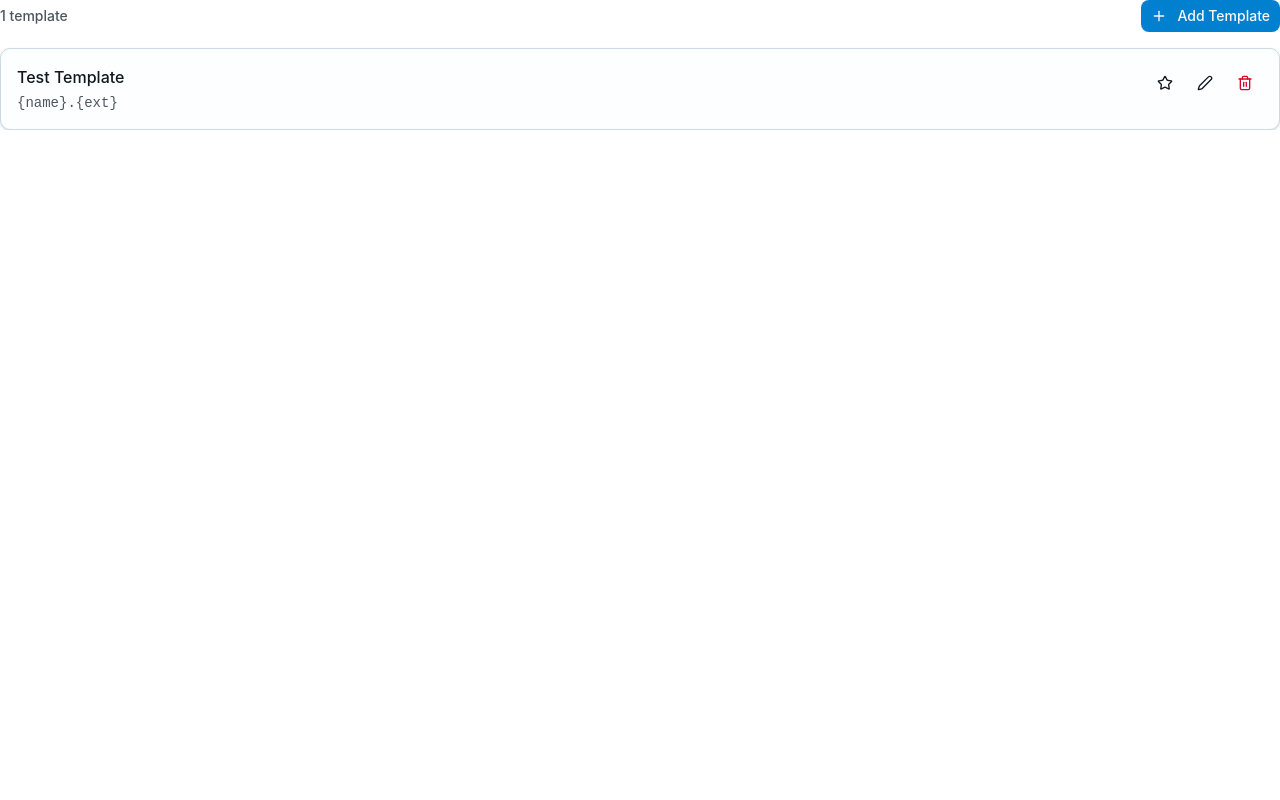
Test: TemplateList › delete confirmation › closes dialog when cancel is clicked
Click the button with test id "delete-template-test-id".
click(1245, 83)  # box [1227,65,1263,101]
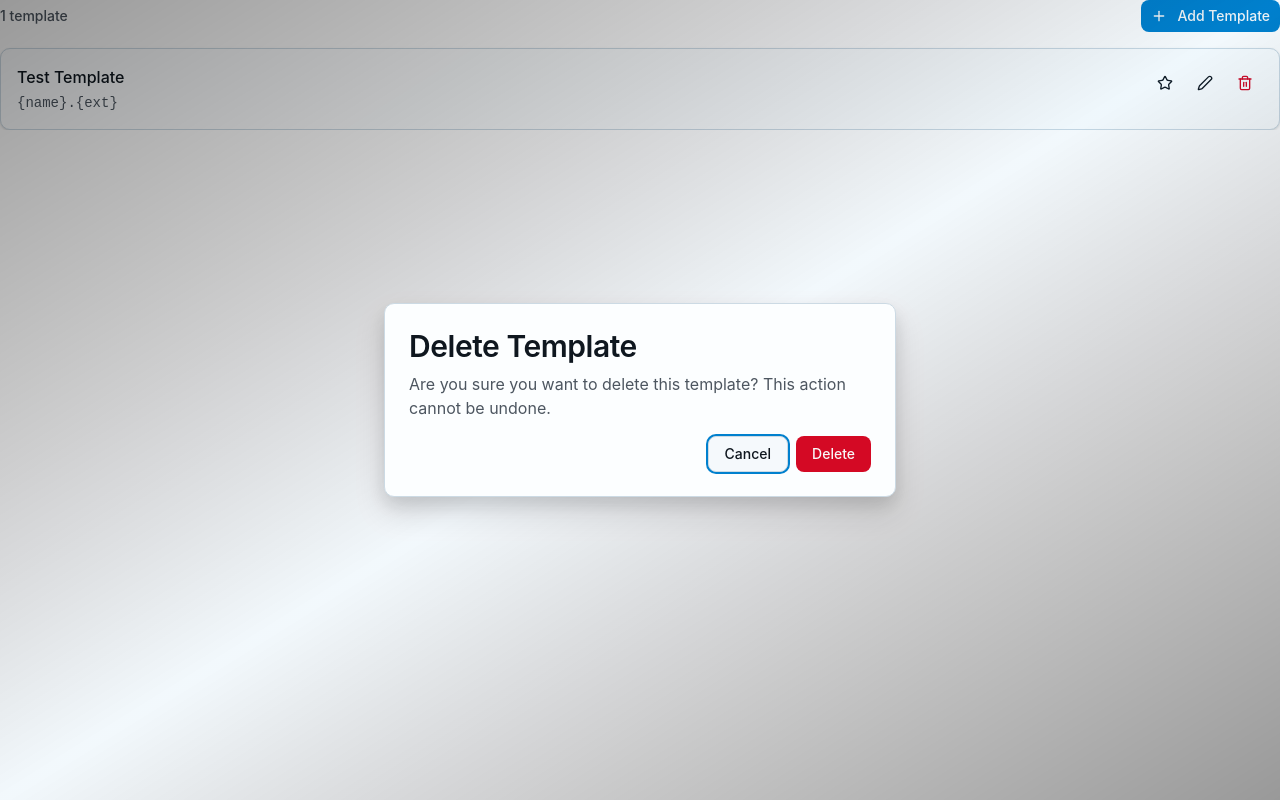
expect the button with test id "cancel-delete" is shown: met
Click the button with test id "cancel-delete".
click(748, 454)  # box [708,436,788,472]
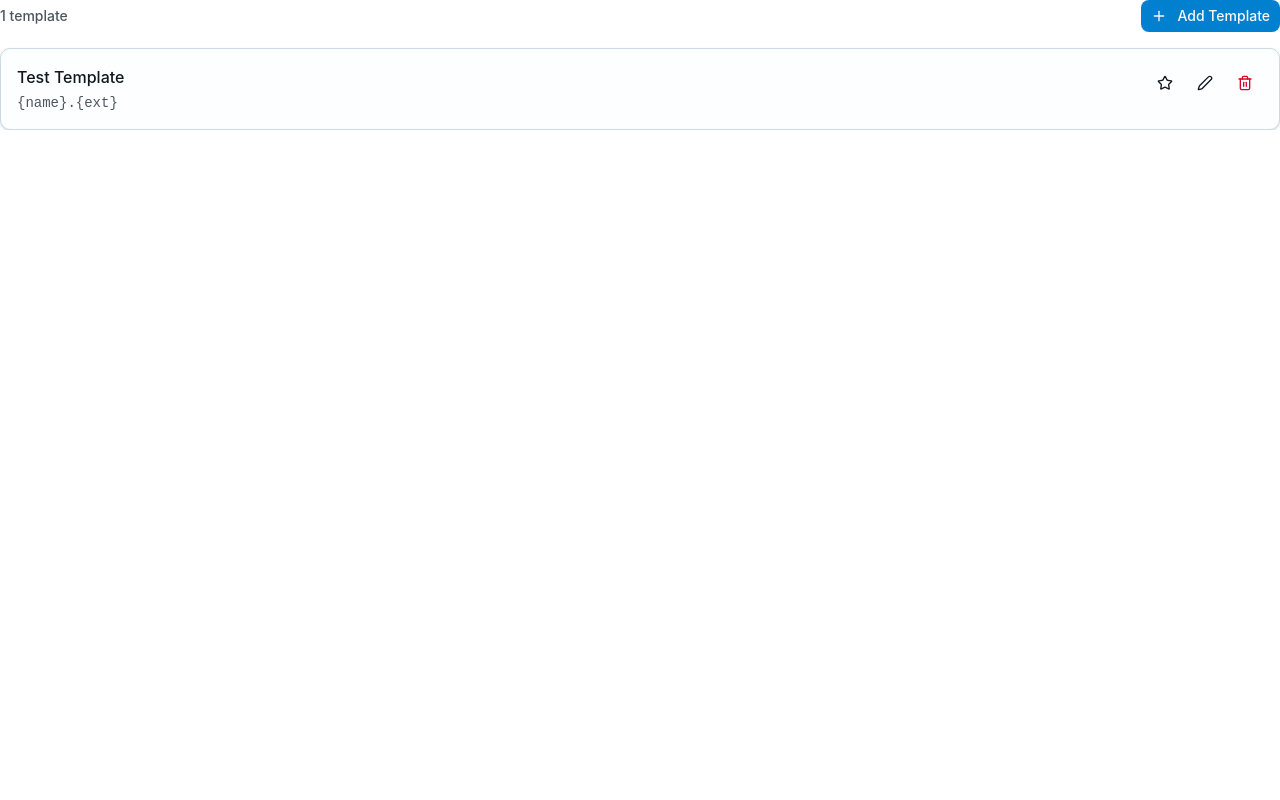
expect the dialog with test id "delete-confirmation" is gone: met
